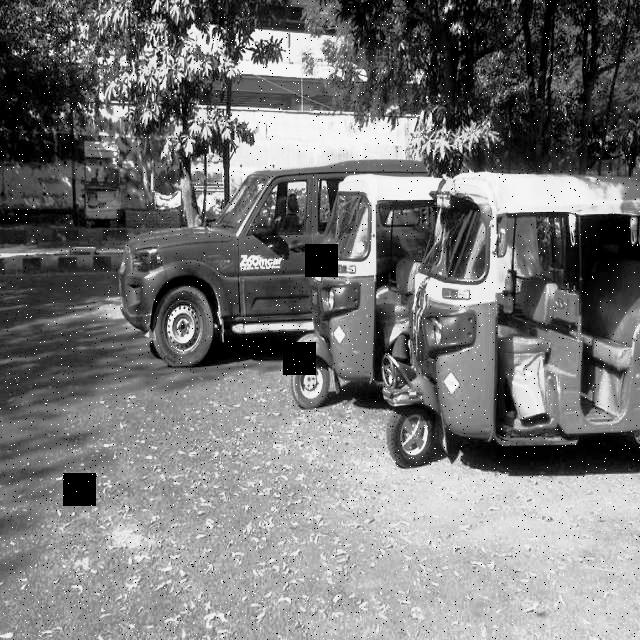Auto-Rickshaw: (396, 181, 640, 488), (284, 169, 440, 411)
